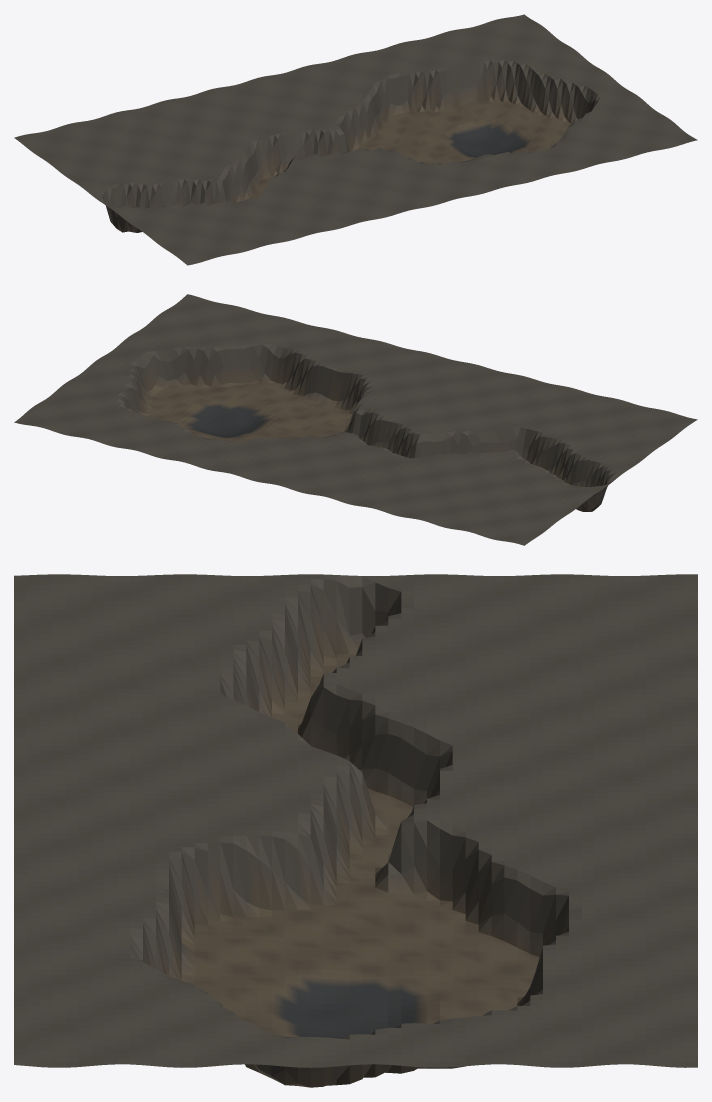
File: campo-cueva.glb
3 renders of one model, top to bottom at view 1: azimuth 30°, elevation 25°; view 2: azimuth 150°, elevation 25°; view 3: azimuth 270°, elevation 25°, orthographic. The views are drawn at different scales.
Parts seen in each view (by area): view 1: campo-cueva-0; view 2: campo-cueva-0; view 3: campo-cueva-0.
Boxes of the visible parts, x1,y1,x2,y2 form: campo-cueva-0: [14, 14, 697, 265]; campo-cueva-0: [14, 294, 697, 545]; campo-cueva-0: [14, 574, 697, 1087].
Size of the model in its own units: 135 by 10.08 by 79.5.
